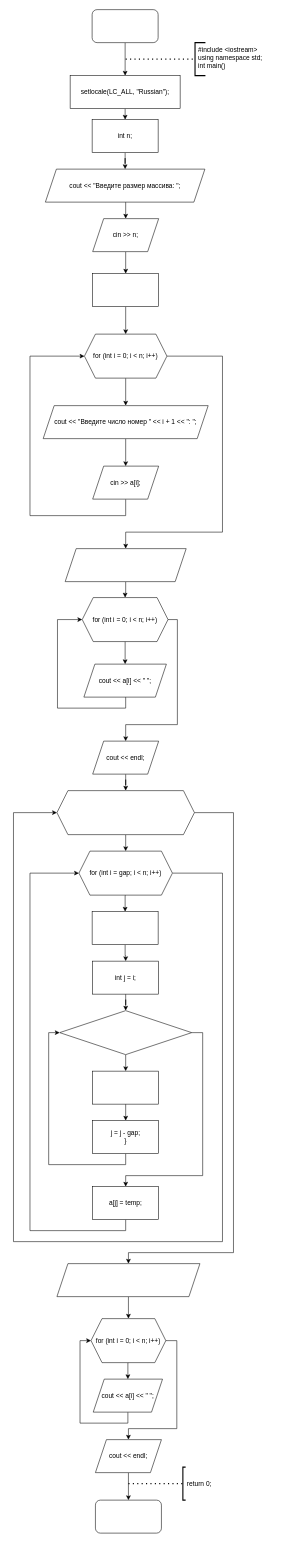
This 289x1543 diagram has some shape labels left out. Here are the shapes that lost their labels. From the top down, the centre of each, then its label:
(x=125, y=26): start
(x=125, y=290): int a[100];
(x=125, y=565): cout << "Исходный массив: ";
(x=125, y=812): for (int gap = n / 2; gap > 0; gap = gap / 2)
(x=125, y=928): int temp = a[i];
(x=125, y=1032): while (j >= gap && a[j - gap] > temp)
(x=125, y=1087): a[j] = a[j - gap];
(x=128, y=1280): cout << "Отсортированный массив: ";
(x=128, y=1516): end
